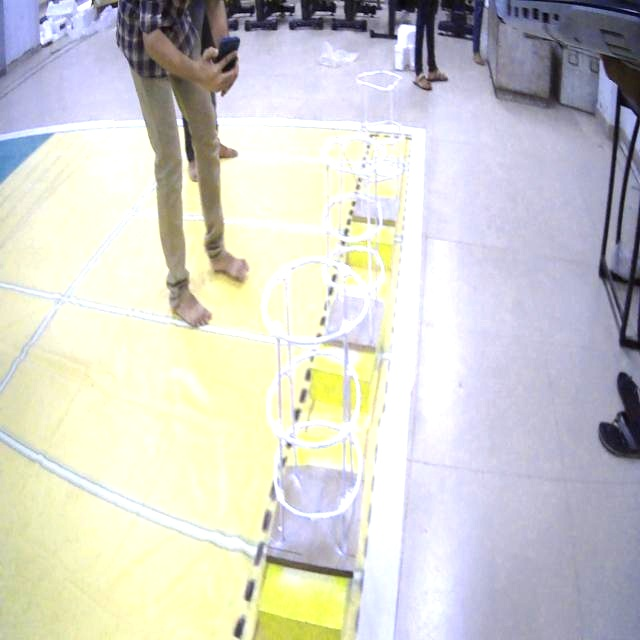silo: (263, 258, 362, 576), (323, 137, 383, 347), (356, 68, 402, 230)
